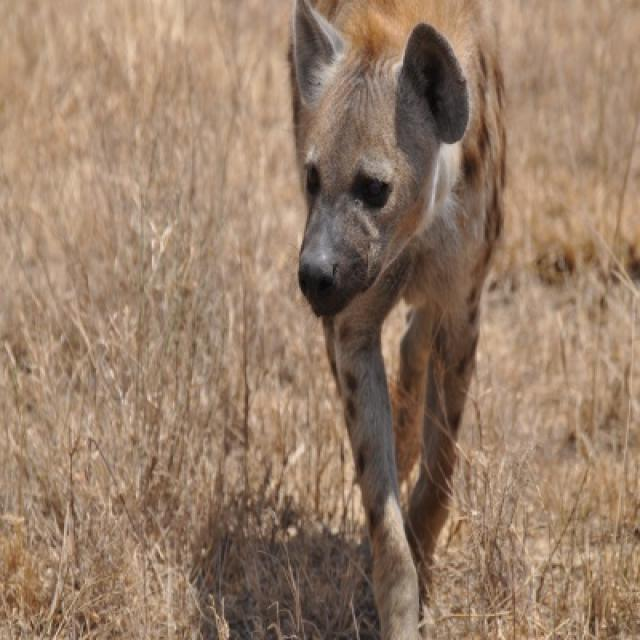hyena: (290, 0, 510, 638)
